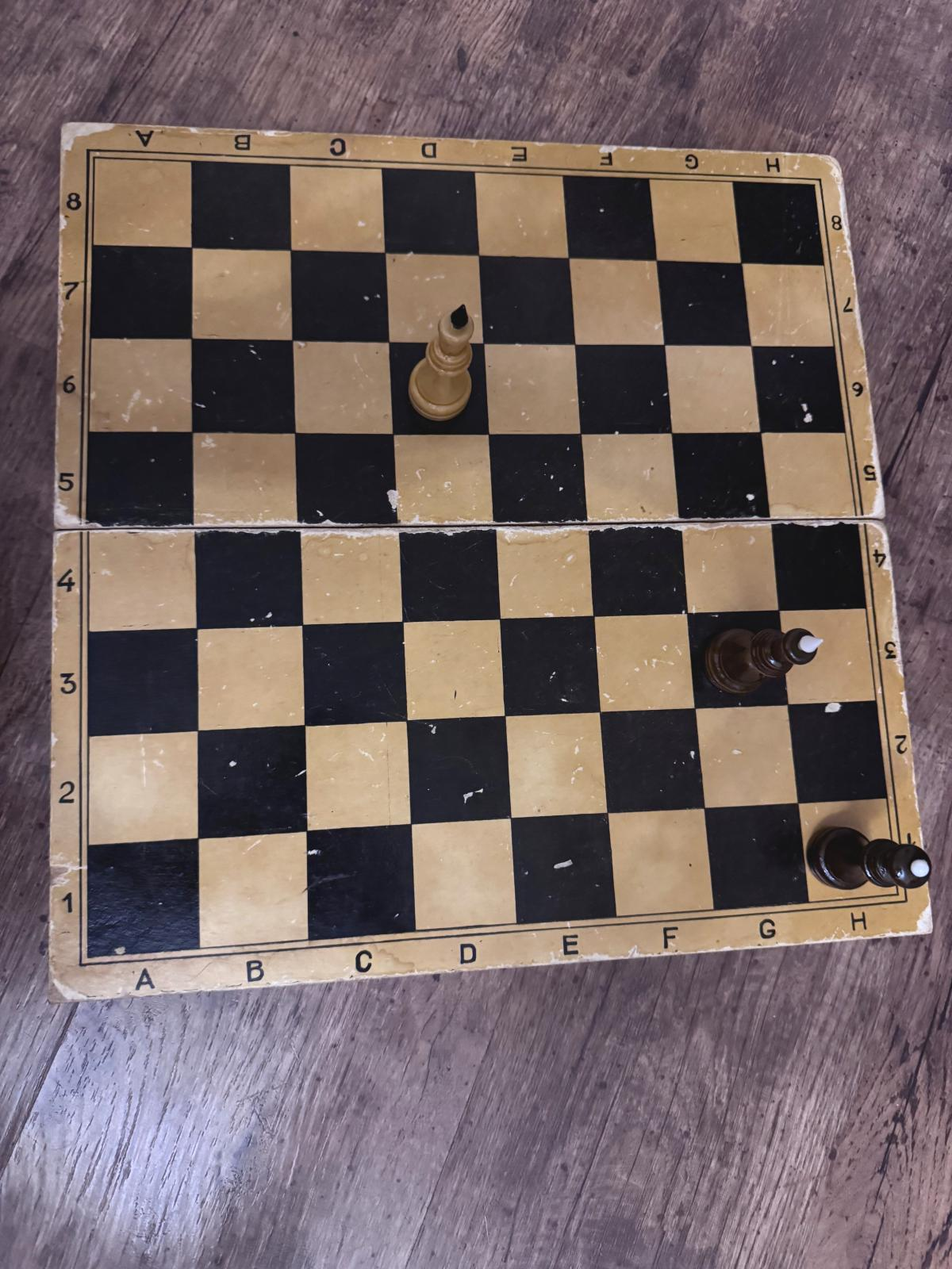Chess-Board: (88, 157, 898, 956)
